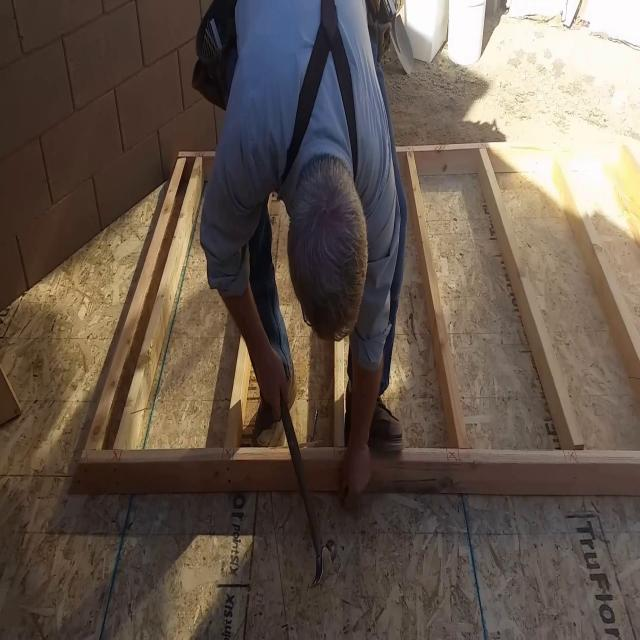hammer: (280, 396, 338, 588)
